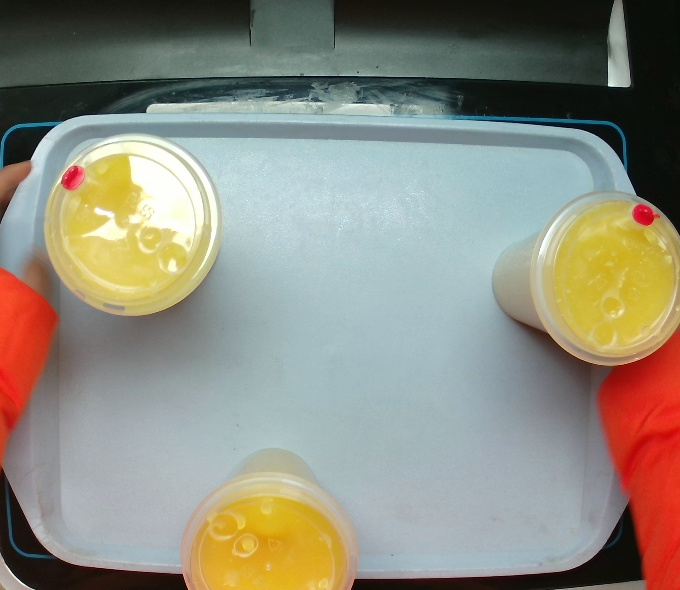wcq-ChengZhi: (490, 186, 680, 369), (42, 132, 225, 319), (177, 446, 360, 590)
